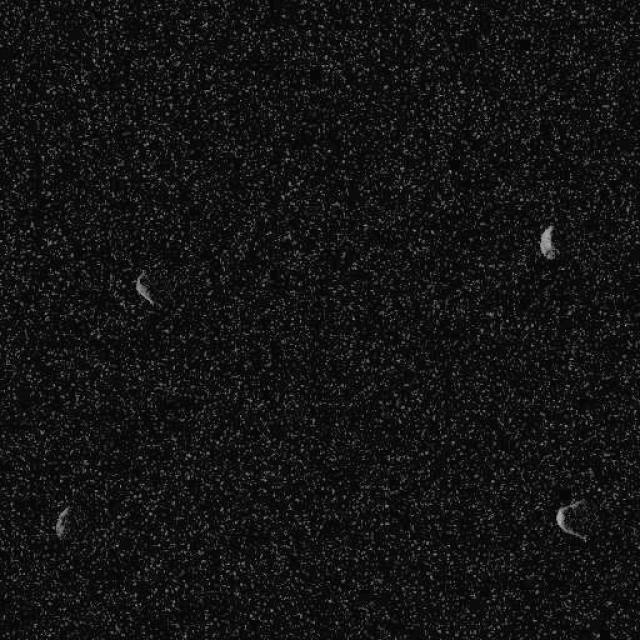D2: (554, 498, 590, 542), (132, 271, 160, 310), (538, 224, 558, 260), (54, 505, 71, 539)
